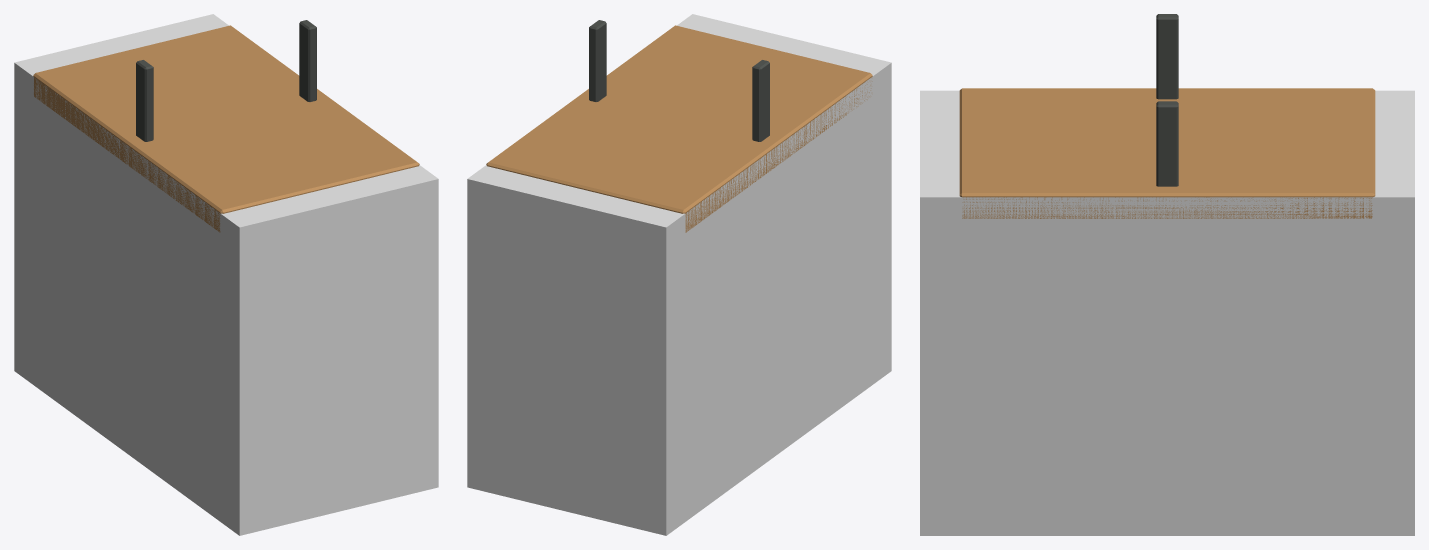
Rendered from golf-cart_commercial.glb.
The picture shows the model from 3 angles, left to right: view 1: azimuth 30°, elevation 25°; view 2: azimuth 150°, elevation 25°; view 3: azimuth 270°, elevation 25°; orthographic projection. The views are drawn at different scales.
Parts seen in each view (by area): view 1: COL_golf-cart, MESH_Canopy, MESH_RoofPost, MESH_RoofPost.001; view 2: COL_golf-cart, MESH_Canopy, MESH_RoofPost, MESH_RoofPost.001; view 3: COL_golf-cart, MESH_Canopy, MESH_RoofPost, MESH_RoofPost.001.
Part boxes in pixels (x1,y1,x2,y2): COL_golf-cart: [14, 14, 438, 535]; MESH_Canopy: [33, 25, 419, 232]; MESH_RoofPost: [136, 60, 153, 141]; MESH_RoofPost.001: [299, 20, 316, 101]; COL_golf-cart: [467, 14, 891, 535]; MESH_Canopy: [486, 25, 872, 232]; MESH_RoofPost: [752, 60, 769, 141]; MESH_RoofPost.001: [589, 20, 606, 101]; COL_golf-cart: [920, 90, 1414, 535]; MESH_Canopy: [959, 88, 1375, 218]; MESH_RoofPost: [1156, 14, 1178, 99]; MESH_RoofPost.001: [1156, 101, 1178, 186].
Size of the model in its own units: 1.25 by 2.31 by 2.45.
